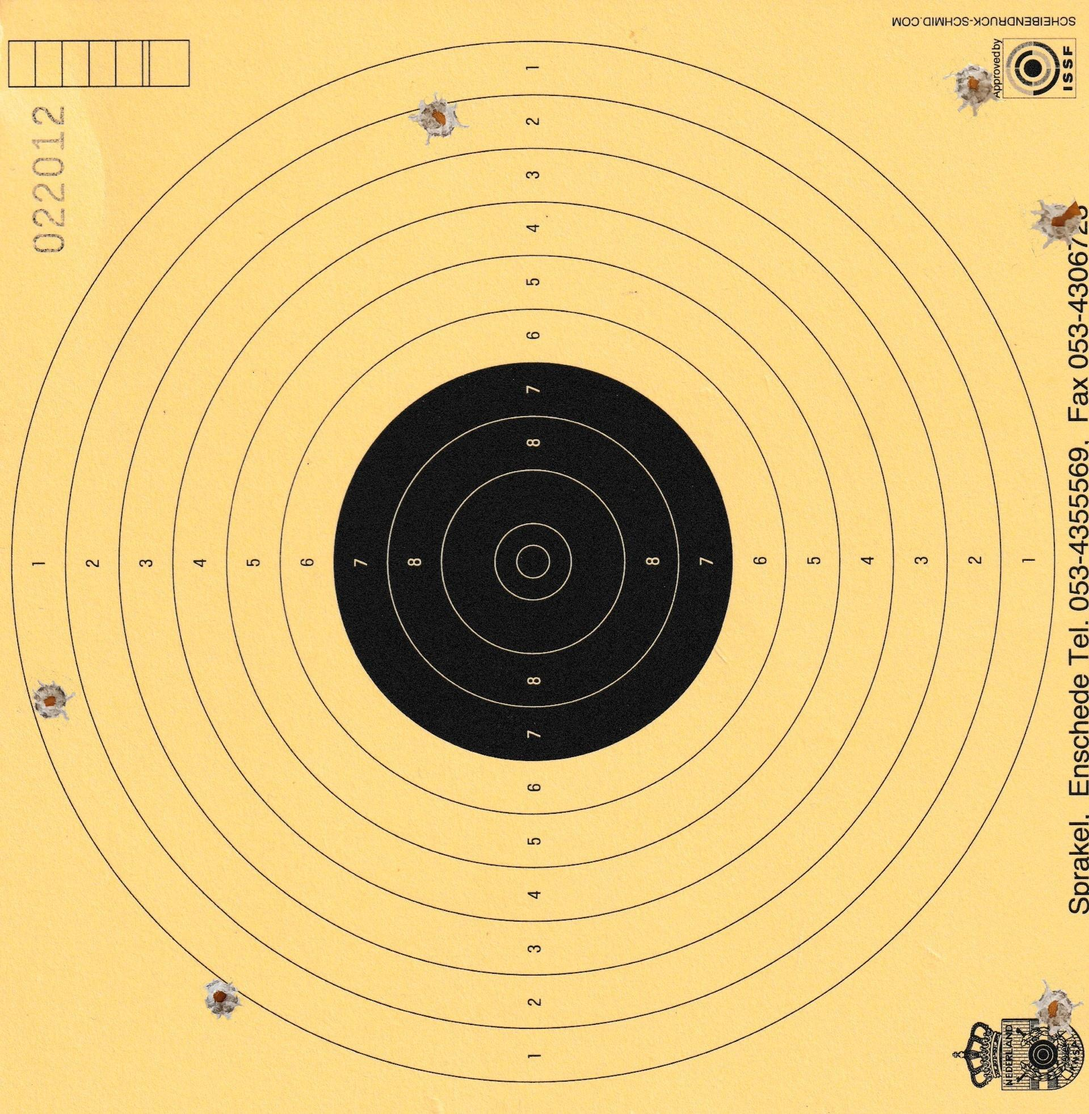hole: (407, 92, 471, 147), (1028, 980, 1084, 1039), (945, 61, 1003, 116), (1030, 196, 1083, 249), (30, 678, 78, 723), (203, 978, 244, 1023)
